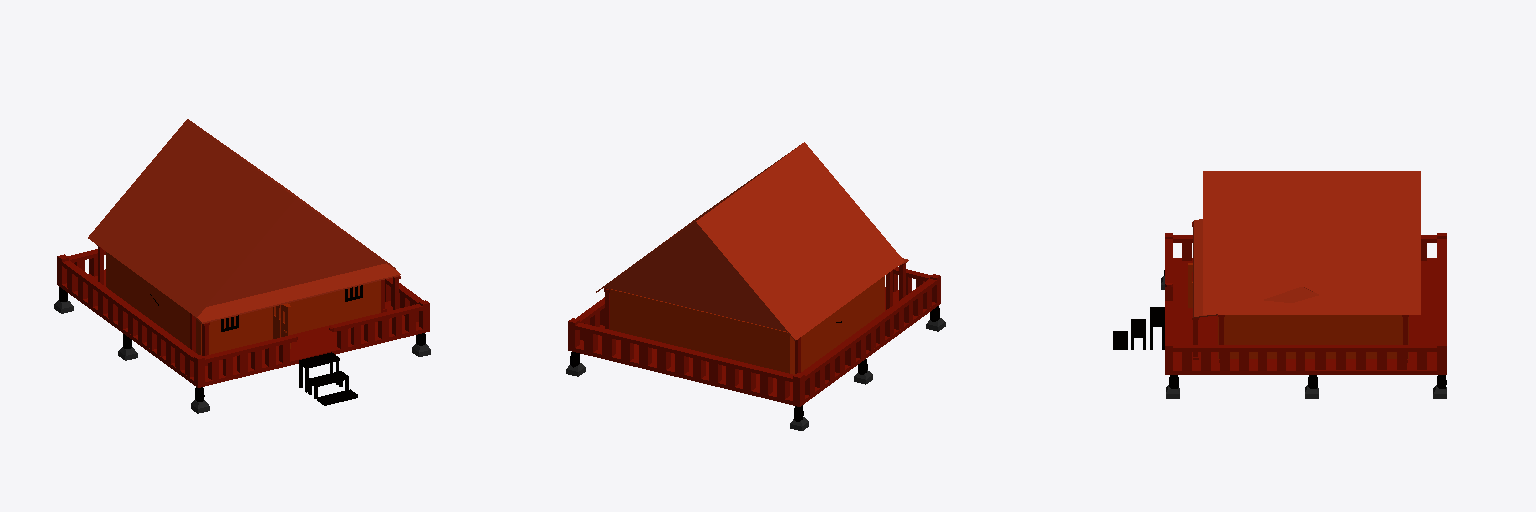
The model's file is home_sunda_final.obj.
3 views of the same model, side by side, from view 1: azimuth 30°, elevation 25°; view 2: azimuth 150°, elevation 25°; view 3: azimuth 270°, elevation 25° (orthographic).
Visible parts, largest first — view 1: home_sunda_Cube.019; view 2: home_sunda_Cube.019; view 3: home_sunda_Cube.019.
Boxes of the visible parts, box(x1,y1,x2,y2) form: home_sunda_Cube.019: box(54, 119, 430, 413); home_sunda_Cube.019: box(566, 142, 945, 430); home_sunda_Cube.019: box(1113, 171, 1446, 398).
Bounding box in the file's own units: 12.58 × 8.72 × 15.48.